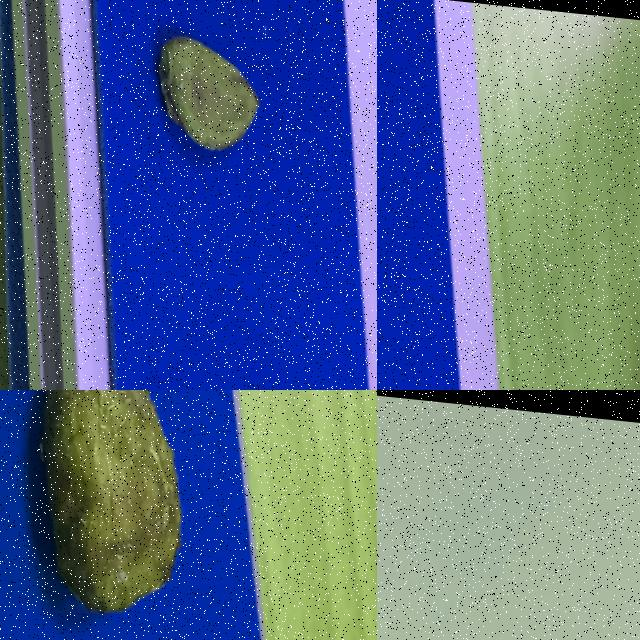Fine_cocoabeans: (0, 390, 253, 639)
Flat_cocoabeans: (120, 0, 308, 216), (377, 30, 447, 389)
